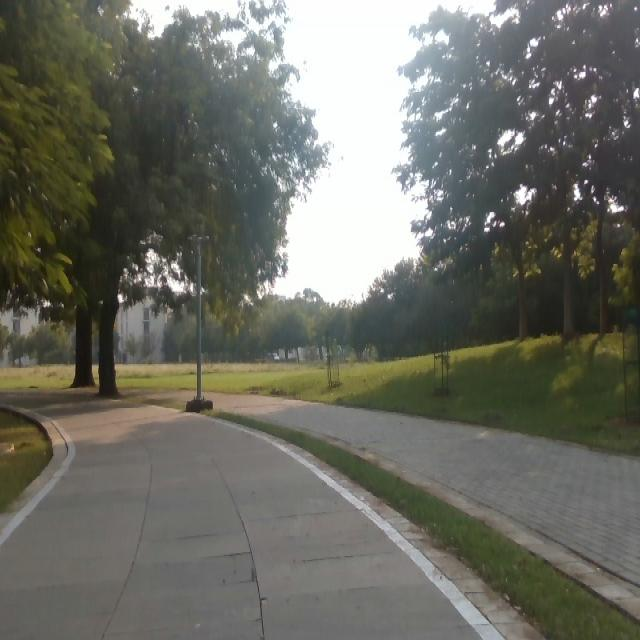lane: (0, 395, 484, 640)
